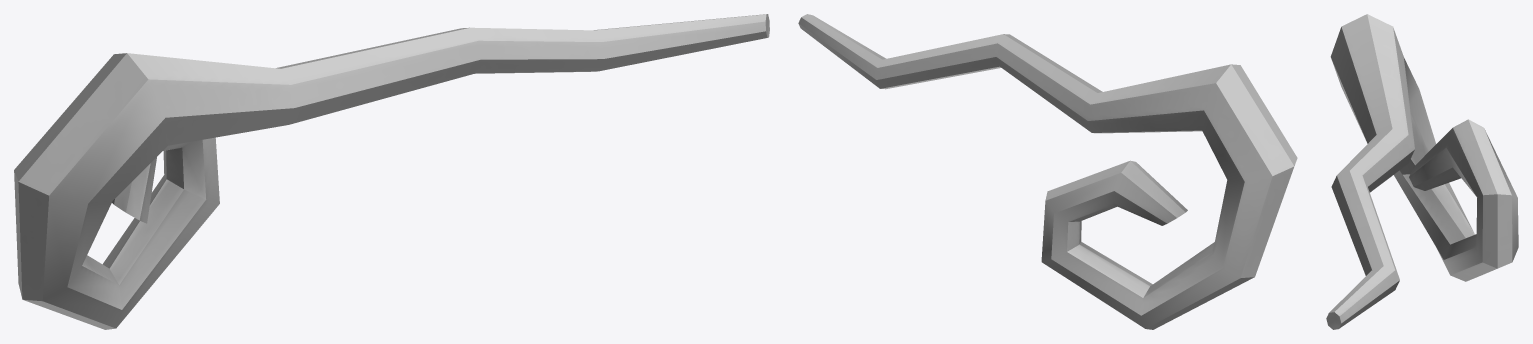
File: Cloud_24.fbx
3 views of the same model, side by side, from view 1: azimuth 30°, elevation 25°; view 2: azimuth 150°, elevation 25°; view 3: azimuth 270°, elevation 25° (orthographic). The views are drawn at different scales.
Parts seen in each view (by area): view 1: Cloud_24; view 2: Cloud_24; view 3: Cloud_24.
Boxes of the visible parts, x1,y1,x2,y2 form: Cloud_24: (14, 14, 769, 329); Cloud_24: (798, 14, 1297, 329); Cloud_24: (1326, 14, 1518, 329).
Bounding box in the file's own units: 84.96 × 37.64 × 26.07.
